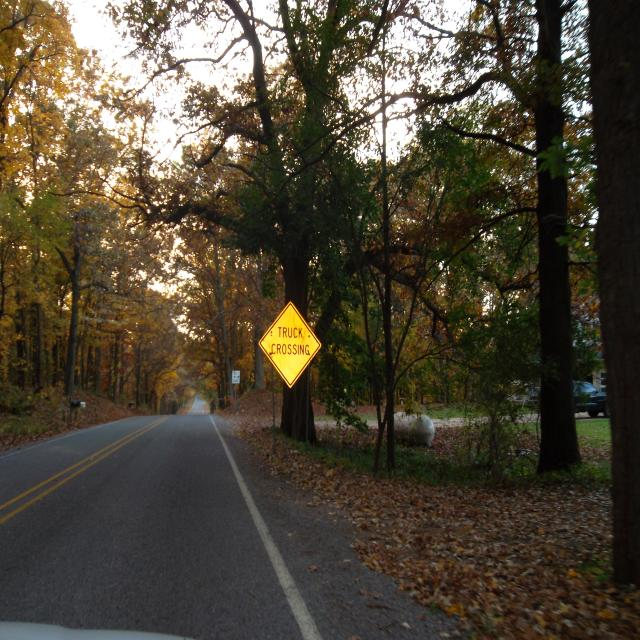warning: (260, 297, 319, 388)
